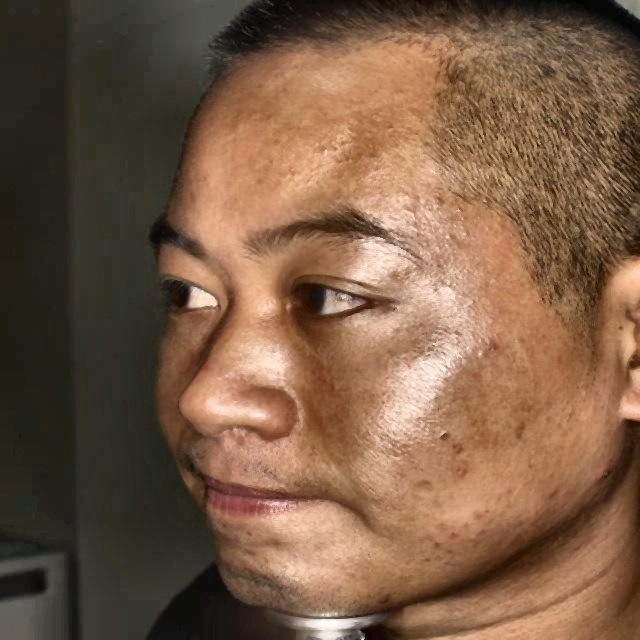comedone: (438, 462, 478, 484), (543, 475, 566, 509)
